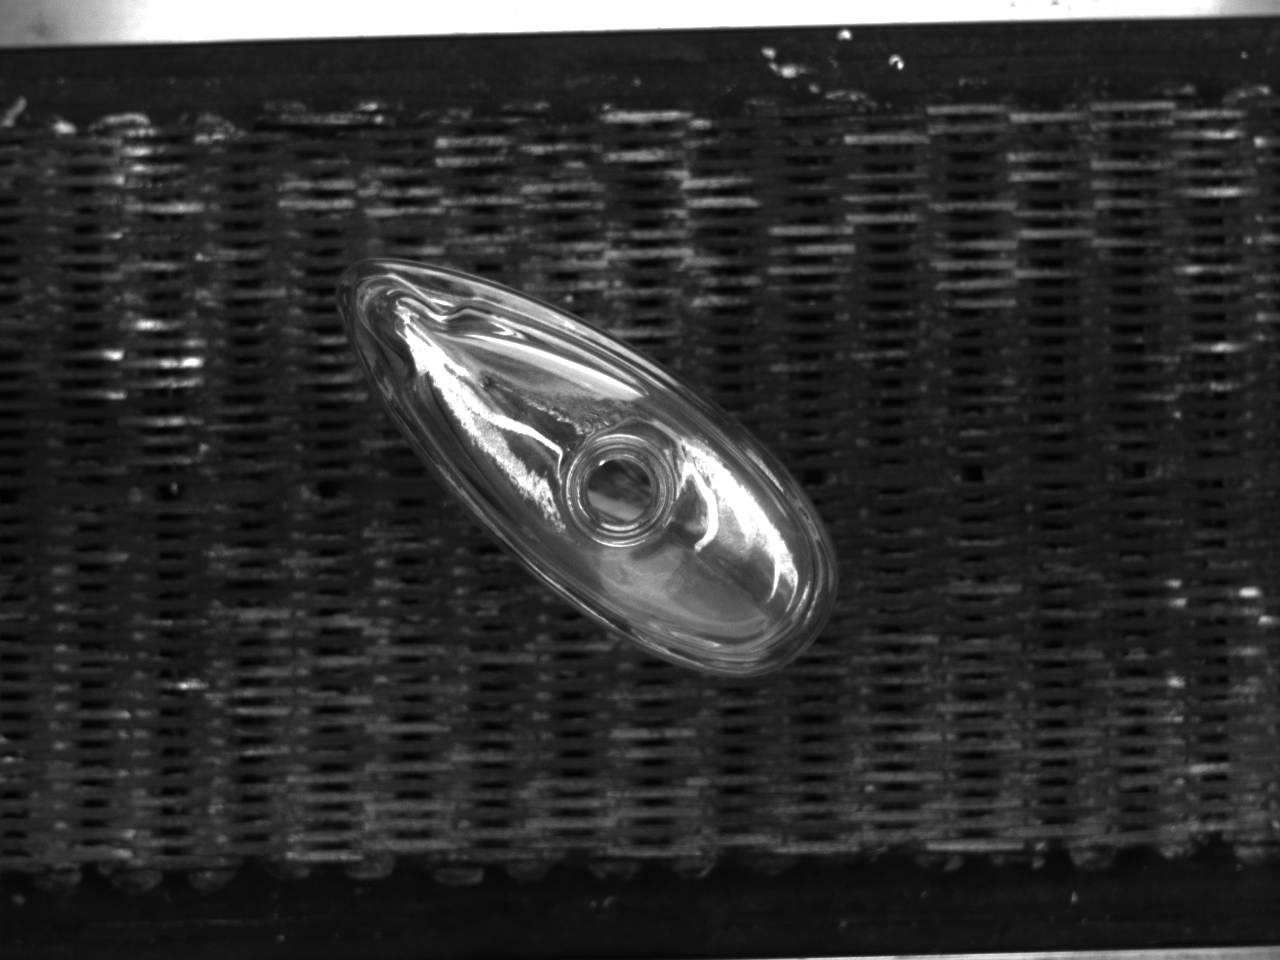bottleneck: (566, 433, 675, 547)
